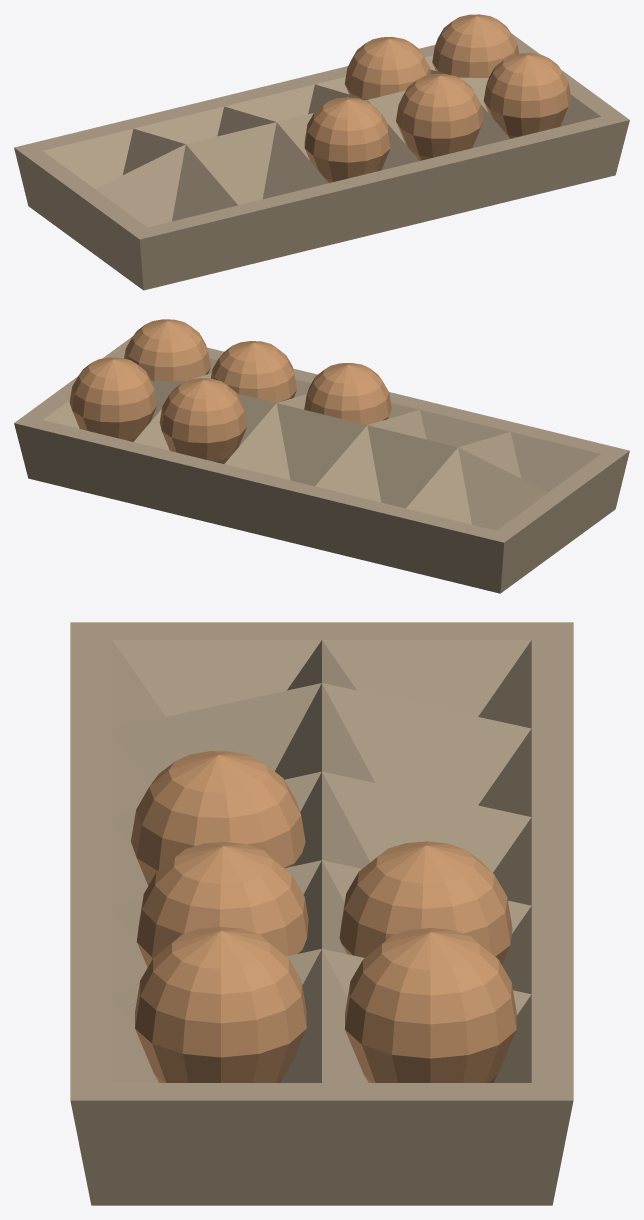
The model's file is SM_Cook_EggTray_01.fbx.
The picture shows the model from 3 angles, top to bottom: view 1: azimuth 30°, elevation 25°; view 2: azimuth 150°, elevation 25°; view 3: azimuth 270°, elevation 25°; orthographic projection. The views are drawn at different scales.
Visible parts, largest first — view 1: SM_Cook_EggTray_01; view 2: SM_Cook_EggTray_01; view 3: SM_Cook_EggTray_01.
Boxes of the visible parts, x1,y1,x2,y2 form: SM_Cook_EggTray_01: (14,14,629,290); SM_Cook_EggTray_01: (14,319,629,593); SM_Cook_EggTray_01: (70,622,573,1205).
Bounding box in the file's own units: 0.27 × 0.058 × 0.12.
Materials: 1 (1 with a texture image).
